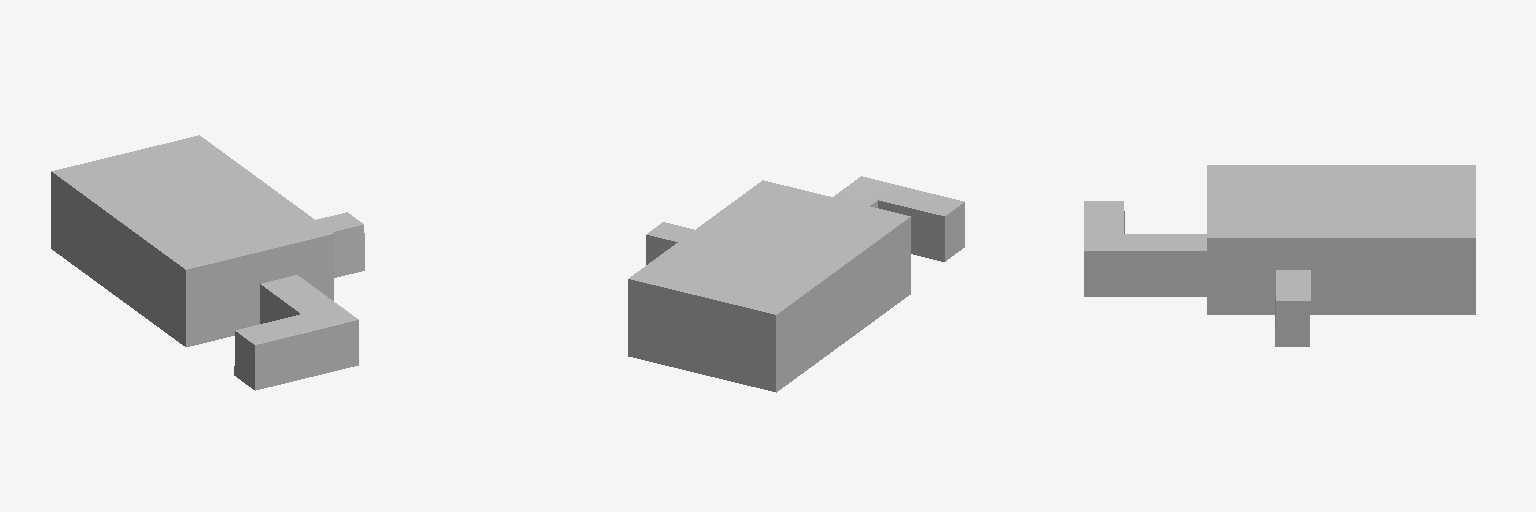
File: Chapter02_Map.obj
3 renders of one model, left to right at view 1: azimuth 30°, elevation 25°; view 2: azimuth 150°, elevation 25°; view 3: azimuth 270°, elevation 25°, orthographic.
Visible parts, largest first — view 1: Cube; view 2: Cube; view 3: Cube.
Boxes of the visible parts, <box> form: Cube: <box>51,135,364,390</box>; Cube: <box>628,176,964,392</box>; Cube: <box>1084,165,1475,346</box>.
Bounding box in the file's own units: 28.74 × 10 × 45.82.